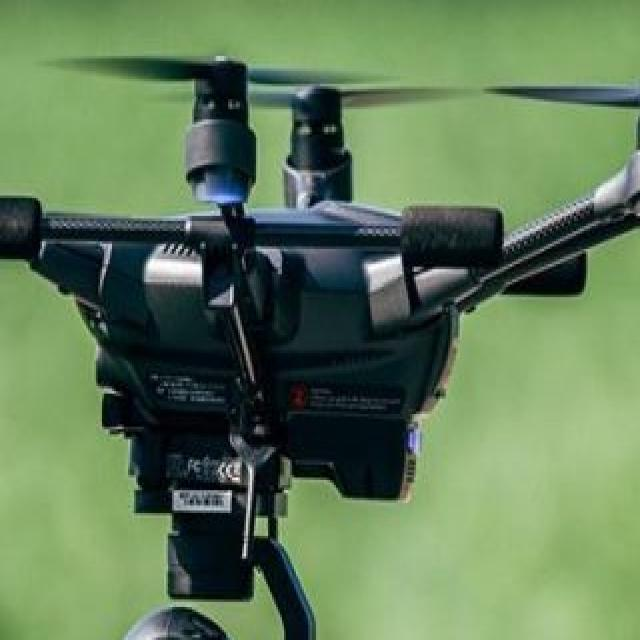drone: (0, 2, 640, 332)
